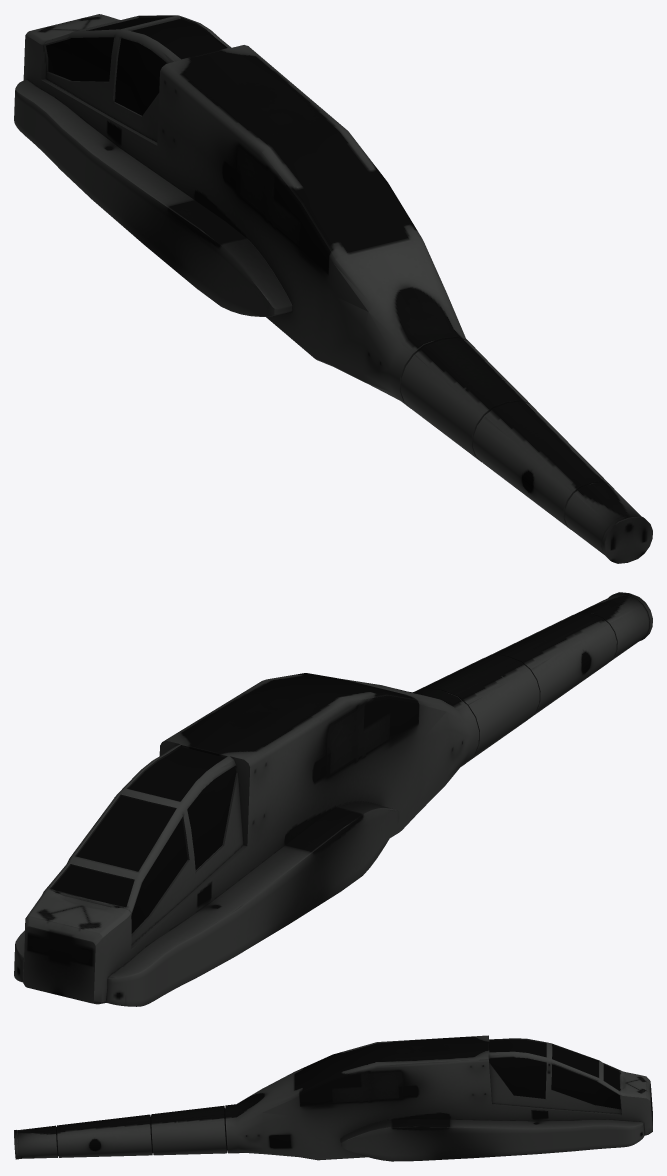
File: apache_2018.obj
3 renders of one model, top to bottom at view 1: azimuth 30°, elevation 25°; view 2: azimuth 150°, elevation 25°; view 3: azimuth 270°, elevation 25°, orthographic. The views are drawn at different scales.
Parts seen in each view (by area): view 1: apache_2018.obj; view 2: apache_2018.obj; view 3: apache_2018.obj.
Boxes of the visible parts, x1=… form: apache_2018.obj: x1=14, y1=14, x2=652, y2=563; apache_2018.obj: x1=14, y1=592, x2=652, y2=1006; apache_2018.obj: x1=14, y1=1035, x2=652, y2=1161.
Size of the model in its own units: 0.1665 by 0.2181 by 1.12.
Materials: 1 (1 with a texture image).
